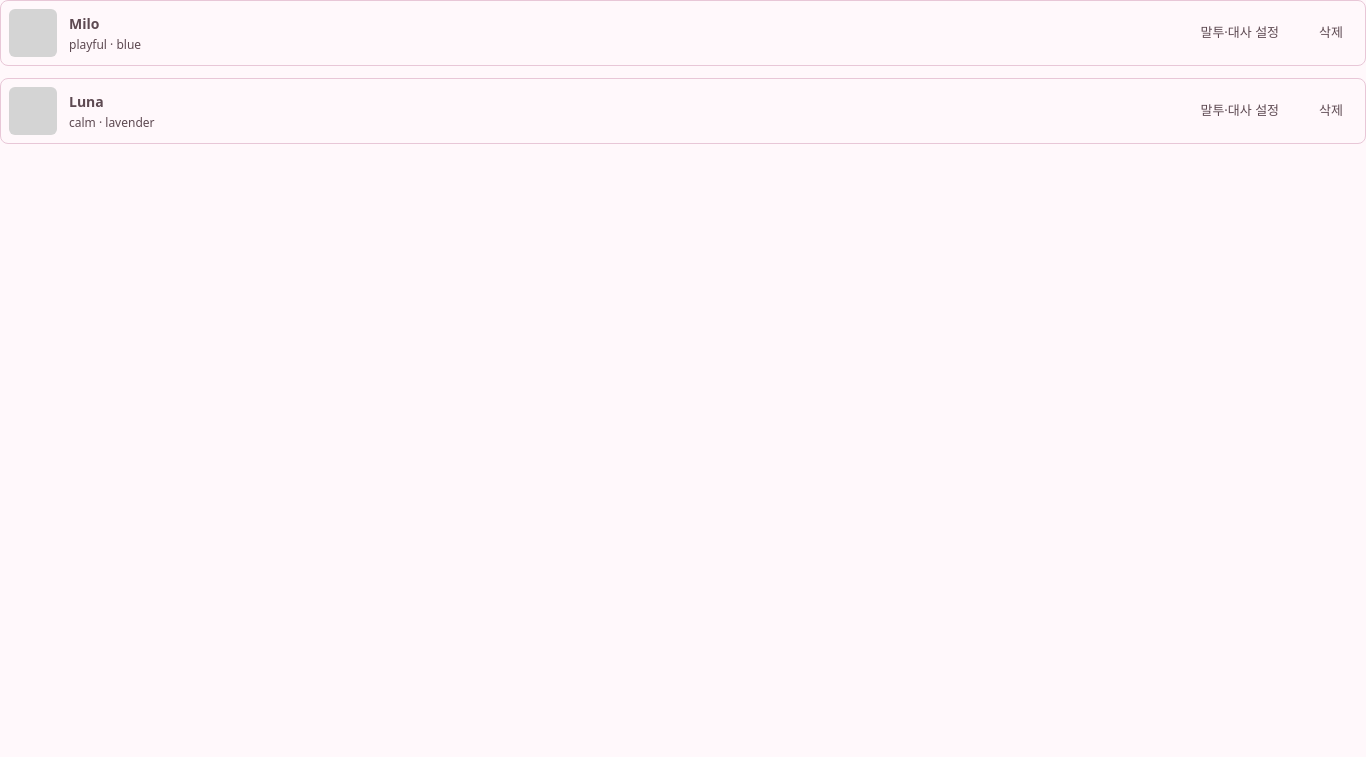
Test: CharacterList tone/dialogue profile editing › keeps the tone/dialogue editor collapsed until "말투·대사 설정" is clicked
Expected: the field labelled "말투 특징" is not shown
Step 1. Click the button "말투·대사 설정" in the row of "blue" → {"x": 1240, "y": 33}, box [1186,17,1293,49]
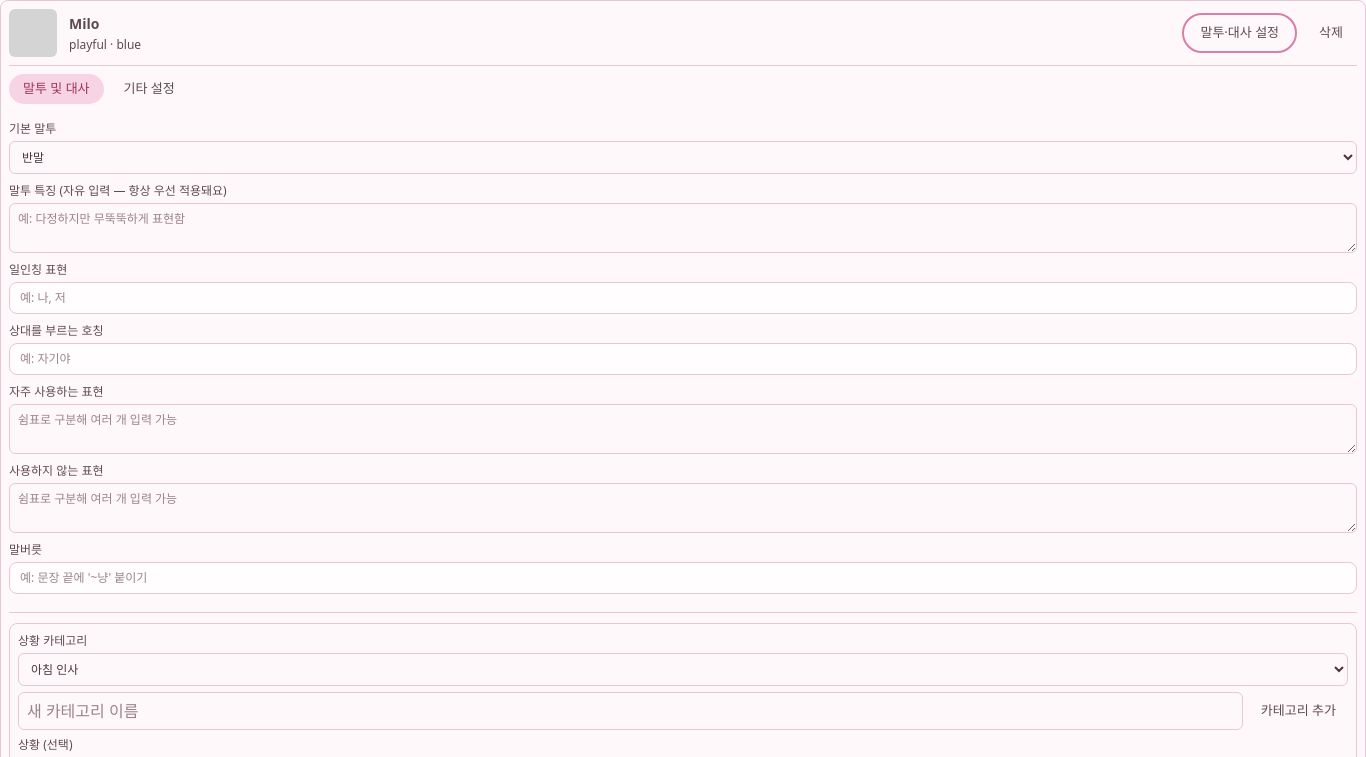
Result: the text box labelled "말투 특징 (자유 입력 — 항상 우선 적용돼요)" is shown at [9,202,1357,252]
